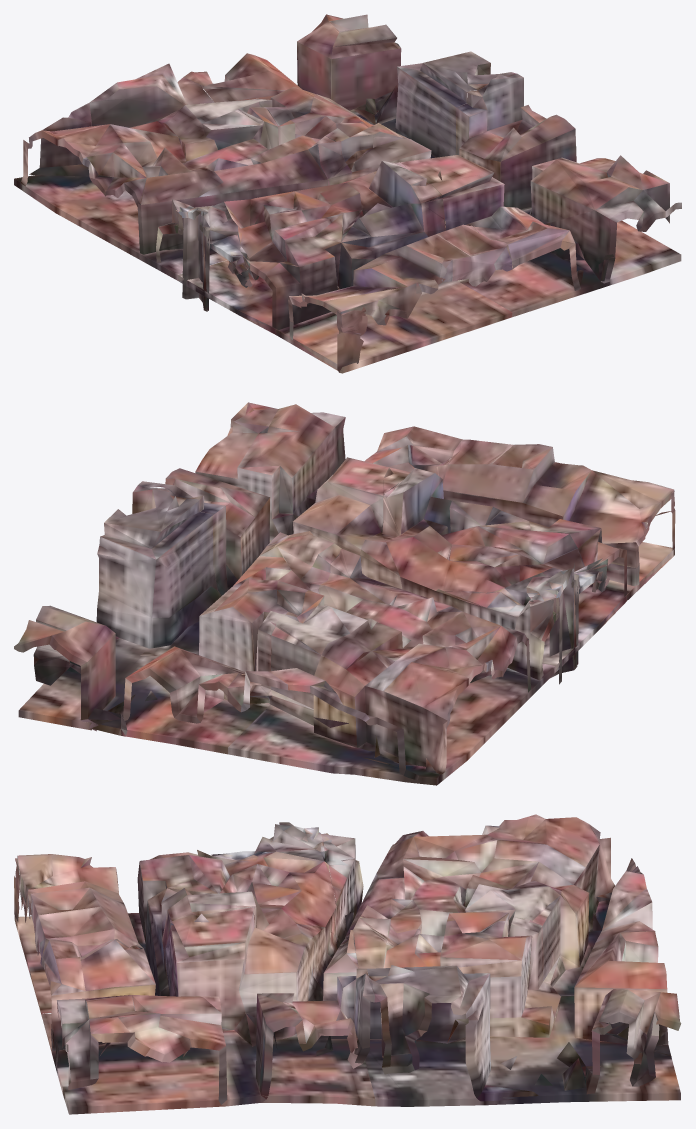
3 renders of one model, top to bottom at view 1: azimuth 30°, elevation 25°; view 2: azimuth 150°, elevation 25°; view 3: azimuth 270°, elevation 25°, orthographic. The views are drawn at different scales.
Parts seen in each view (by area): view 1: Mesh_0; view 2: Mesh_0; view 3: Mesh_0.
Part boxes in pixels (box(x1,y1,x2,y2)): Mesh_0: box(14, 14, 681, 373); Mesh_0: box(14, 402, 675, 785); Mesh_0: box(14, 814, 681, 1114).
Size of the model in its own units: 133 by 37.4 by 165.
Materials: 1 (1 with a texture image).
